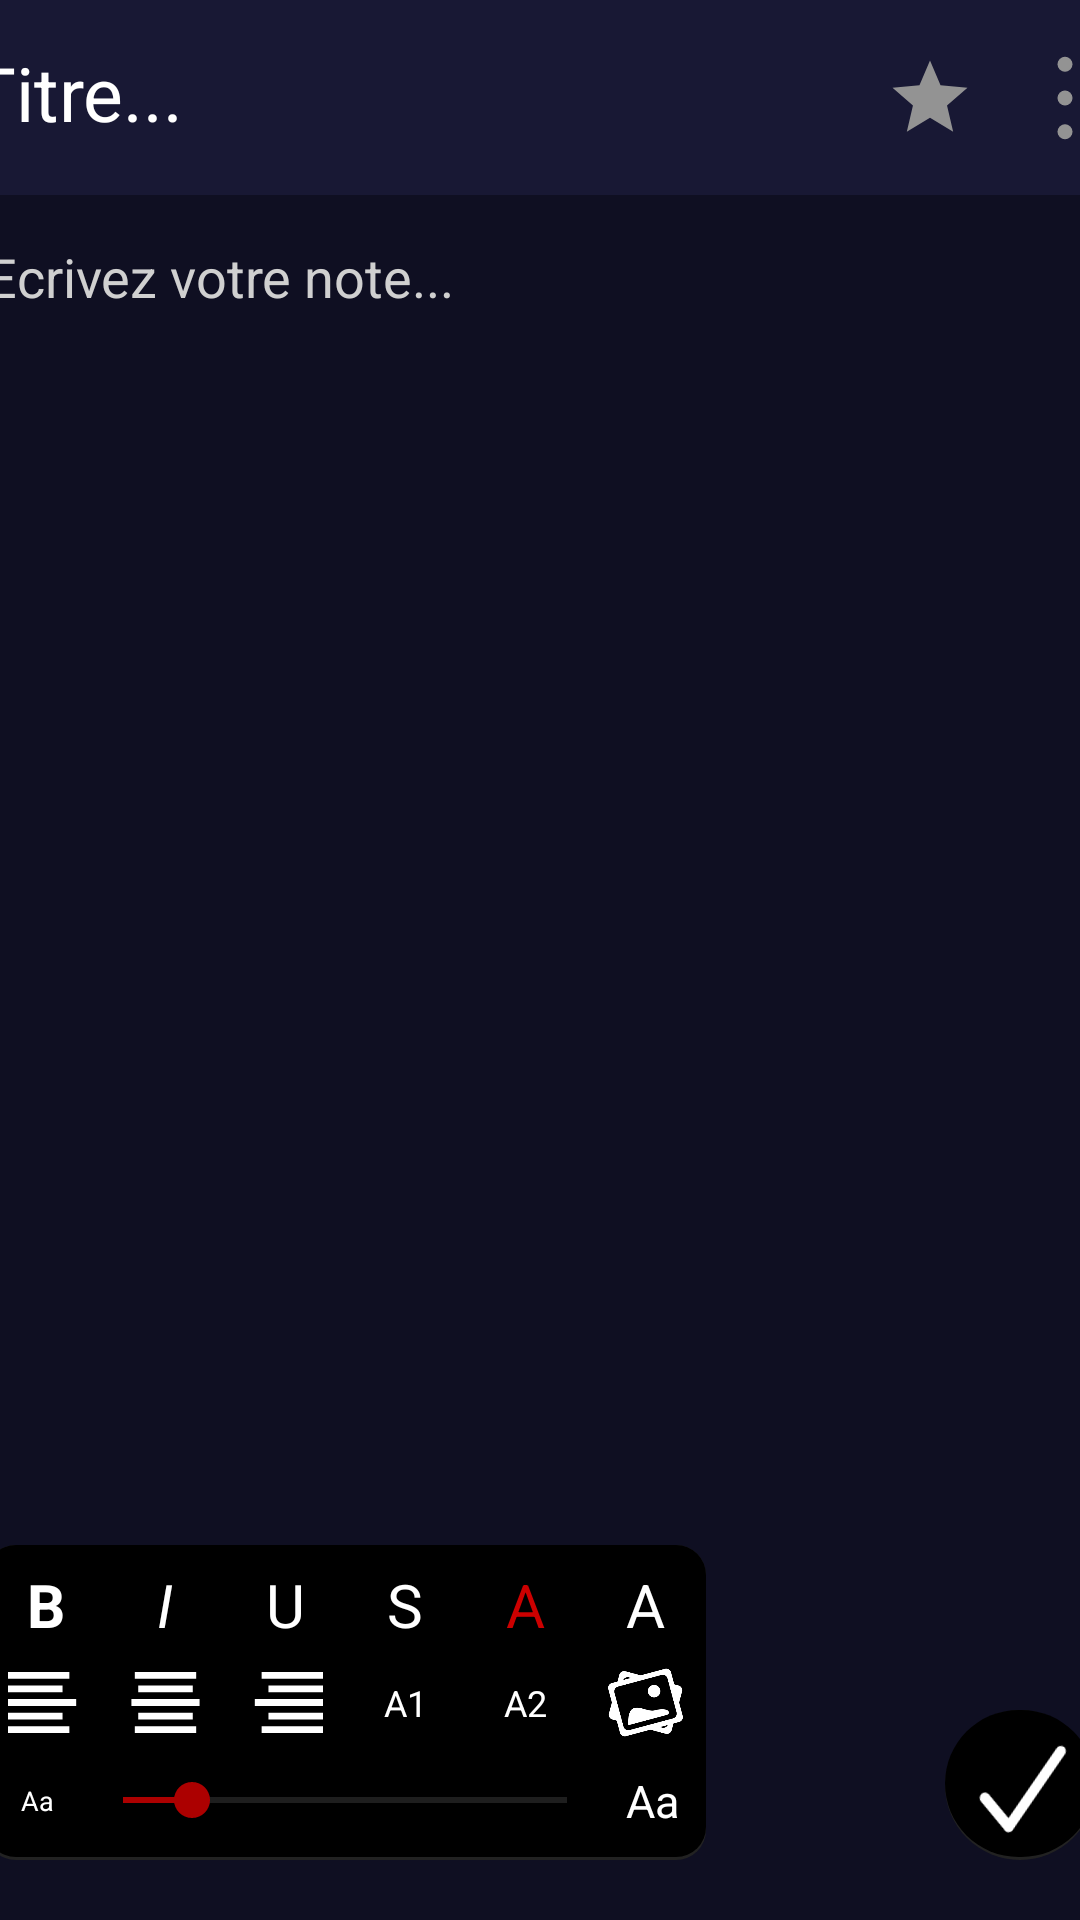

Icon click points for this 1080 × 1920 phone screenshot, format [x,y]:
alignment: [42,1702]
alignment center: [165,1702]
alignment opposite: [288,1702]
favorite: [930,96]
